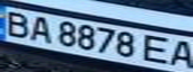7: (93, 25, 118, 55)
8: (115, 28, 142, 60), (51, 19, 78, 48), (75, 21, 96, 52)
A: (24, 14, 57, 44), (166, 38, 193, 70)
B: (0, 8, 36, 38)
E: (139, 33, 175, 65)
